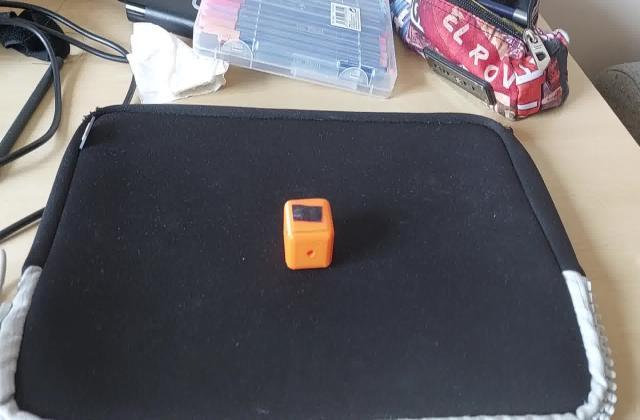black: (290, 201, 326, 226)
cube: (280, 195, 336, 272)
